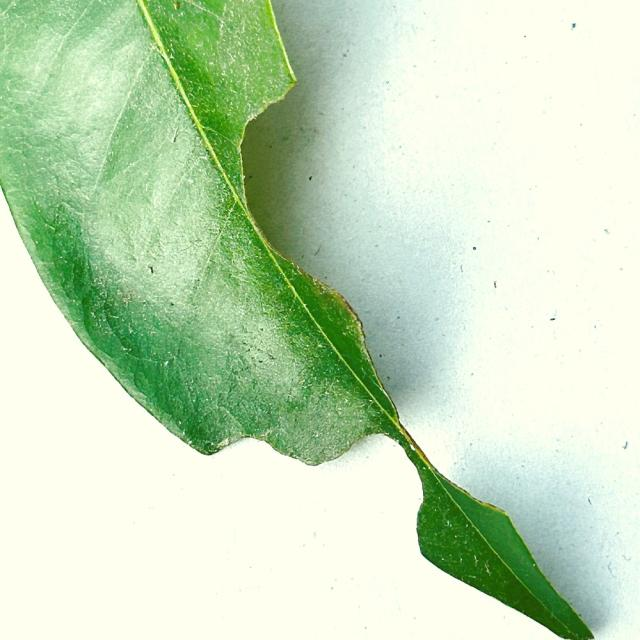Deficiency Leaf: (247, 58, 428, 365), (203, 435, 426, 569)
Lychee: (0, 0, 591, 637)
